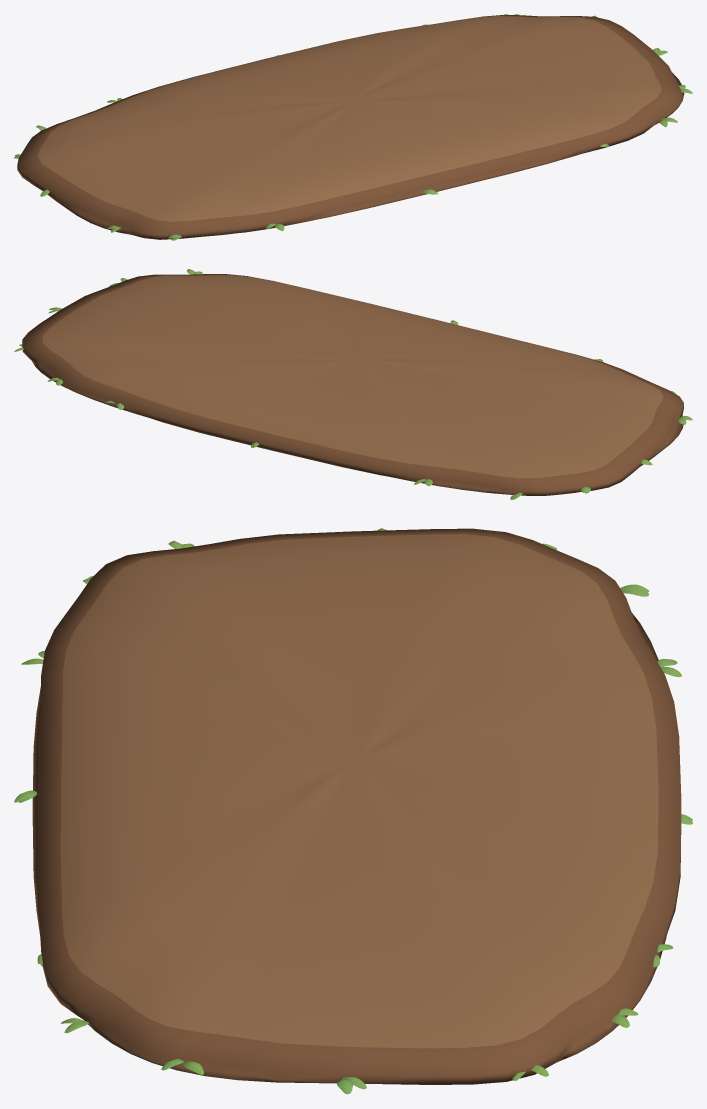
The model's file is strawberry_bed.glb.
3 views of the same model, one above another, from view 1: azimuth 30°, elevation 25°; view 2: azimuth 150°, elevation 25°; view 3: azimuth 270°, elevation 25° (orthographic). The views are drawn at different scales.
Visible parts, largest first — view 1: StrawberryBed | continuous loam, StrawberryBed | sparse edge fringe; view 2: StrawberryBed | continuous loam, StrawberryBed | sparse edge fringe; view 3: StrawberryBed | continuous loam, StrawberryBed | sparse edge fringe.
Boxes of the visible parts, bbox=[...] form: StrawberryBed | continuous loam: bbox=[17, 15, 684, 239]; StrawberryBed | sparse edge fringe: bbox=[14, 14, 692, 240]; StrawberryBed | continuous loam: bbox=[22, 274, 683, 495]; StrawberryBed | sparse edge fringe: bbox=[14, 269, 692, 499]; StrawberryBed | continuous loam: bbox=[32, 528, 681, 1084]; StrawberryBed | sparse edge fringe: bbox=[14, 528, 692, 1094].
Bounding box in the file's own units: 9.14 × 0.382 × 4.65.
